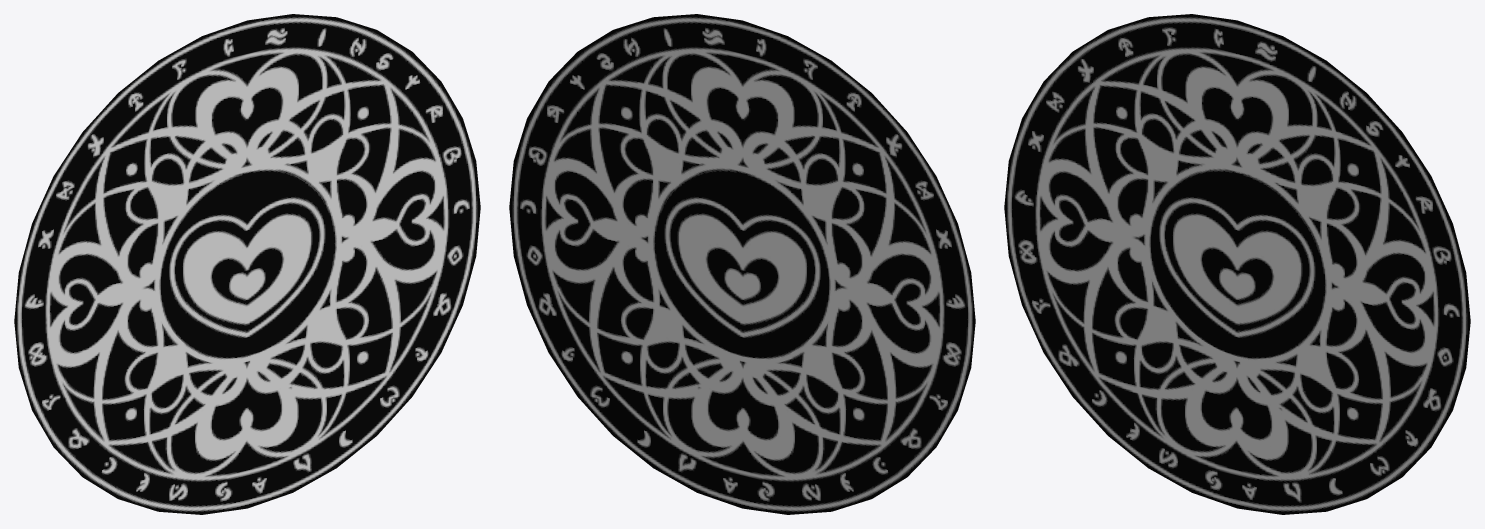
File: G_MagicRing.fbx
3 views of the same model, side by side, from view 1: azimuth 30°, elevation 25°; view 2: azimuth 150°, elevation 25°; view 3: azimuth 330°, elevation 25° (orthographic).
Visible parts, largest first — view 1: G_MagicRing_B, G_MagicRing_A, G_MagicRing_C; view 2: G_MagicRing_B, G_MagicRing_A, G_MagicRing_C; view 3: G_MagicRing_B, G_MagicRing_A, G_MagicRing_C.
Boxes of the visible parts, x1,y1,x2,y2 form: G_MagicRing_B: [43, 45, 451, 482]; G_MagicRing_A: [14, 14, 480, 514]; G_MagicRing_C: [154, 164, 340, 363]; G_MagicRing_B: [539, 45, 945, 483]; G_MagicRing_A: [509, 14, 975, 514]; G_MagicRing_C: [649, 164, 835, 363]; G_MagicRing_B: [1034, 45, 1441, 481]; G_MagicRing_A: [1004, 14, 1470, 514]; G_MagicRing_C: [1144, 165, 1330, 364].
Bounding box in the file's own units: 200 × 200 × 4.45e-05.
1 material, 1 textured.
